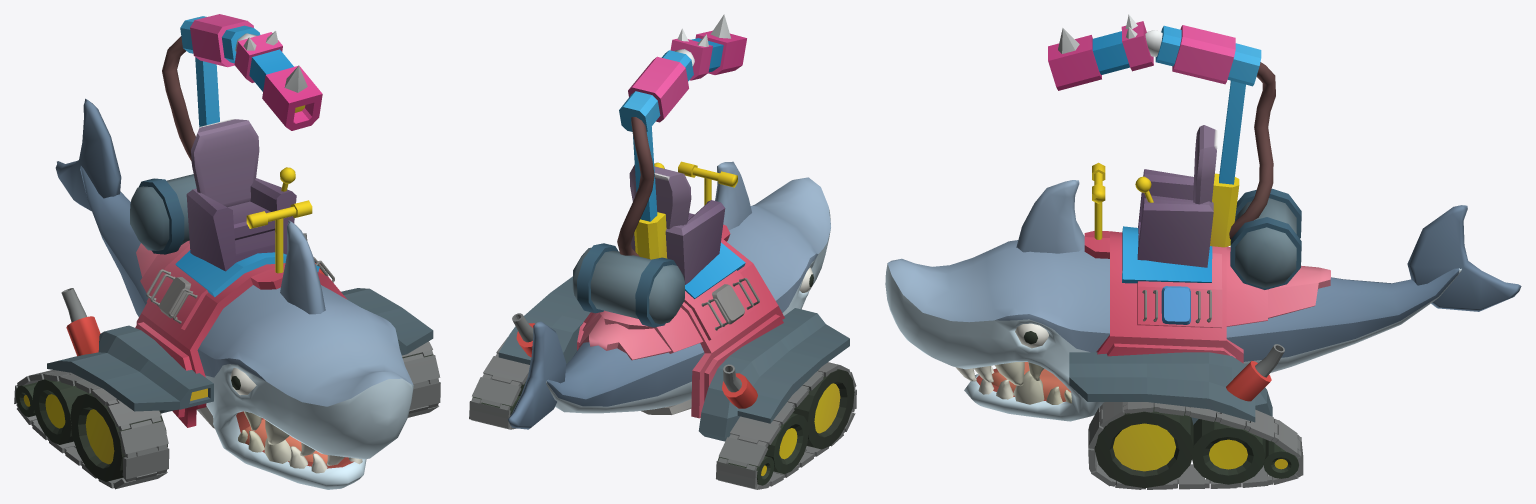
Rendered from Shark_Tank_Geo.fbx.
3 views of the same model, side by side, from view 1: azimuth 30°, elevation 25°; view 2: azimuth 150°, elevation 25°; view 3: azimuth 270°, elevation 25° (orthographic). The views are drawn at different scales.
Visible parts, largest first — view 1: Shark_Tank; view 2: Shark_Tank; view 3: Shark_Tank.
Boxes of the visible parts, left/top/right/bottom form: Shark_Tank: left=14, top=14, right=440, bottom=489; Shark_Tank: left=469, top=14, right=856, bottom=489; Shark_Tank: left=885, top=14, right=1521, bottom=489.
Bounding box in the file's own units: 408 × 509 × 741.
